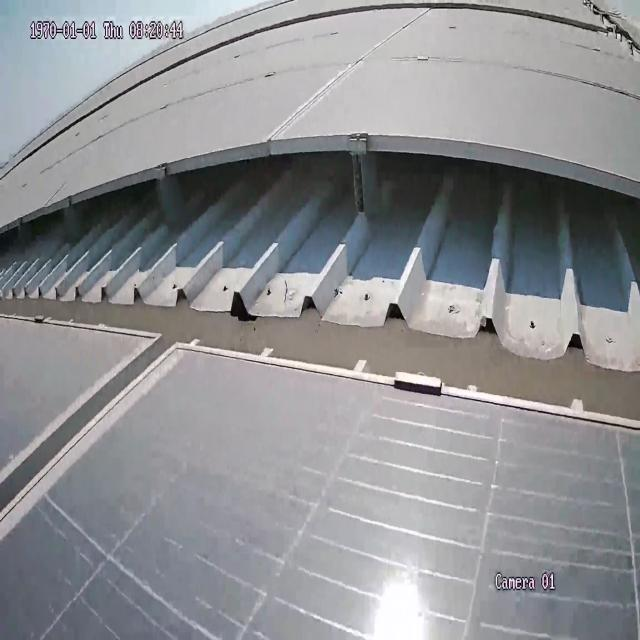interior panel: (0, 339, 196, 576), (245, 0, 444, 145)
outher panel: (0, 138, 640, 419)
